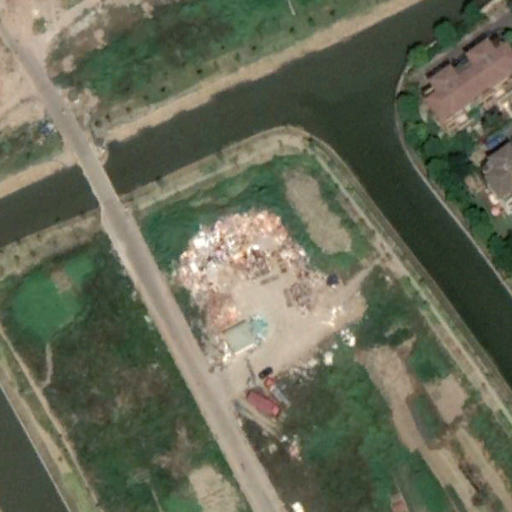msw: (165, 207, 314, 328)
